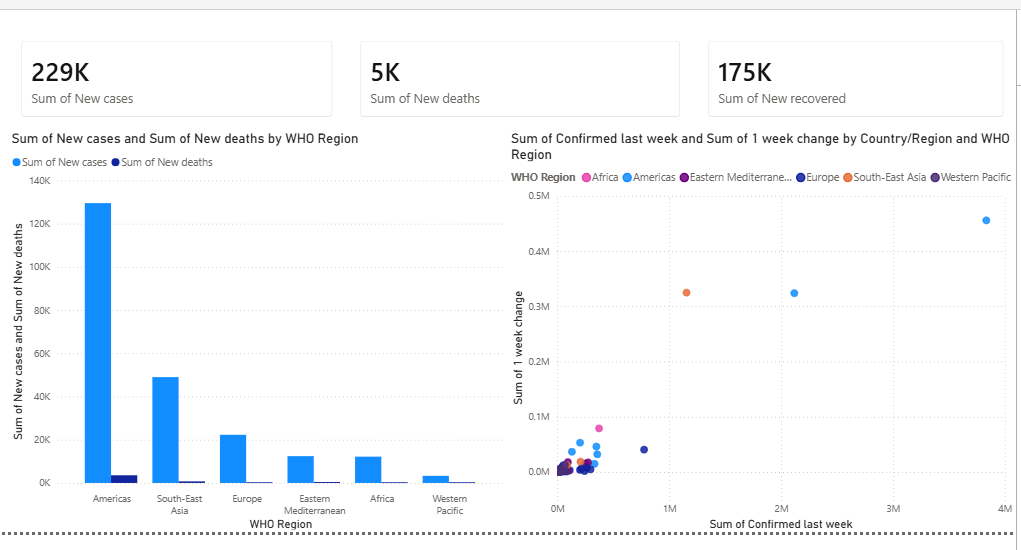

This screenshot's page, from the dashboard's own definition file:
{"tool":"powerbi","page":{"name":"Trends & Momentum","canvas":[1280,720],"ordinal":1},"visuals":[{"type":"cardVisual","fields":{"Data":["Sum(country_wise_latest.New cases)"]},"box":[9.6,82.3,426.8,130.4],"z":0},{"type":"cardVisual","fields":{"Data":["Sum(country_wise_latest.New deaths)"]},"box":[436.4,82.3,437.7,130.4],"z":1000},{"type":"cardVisual","fields":{"Data":["Sum(country_wise_latest.New recovered)"]},"box":[874.1,82.3,406.2,130.4],"z":2000},{"type":"clusteredColumnChart","fields":{"Category":["country_wise_latest.WHO Region"],"Y":["Sum(country_wise_latest.New cases)","Sum(country_wise_latest.New deaths)"]},"box":[9.6,212.7,629.8,507.7],"z":3000},{"type":"scatterChart","fields":{"Category":["country_wise_latest.Country/Region"],"X":["Sum(country_wise_latest.Confirmed last week)"],"Y":["Sum(country_wise_latest.1 week change)"],"Series":["country_wise_latest.WHO Region"]},"box":[639.5,212.7,640.8,507.7],"z":4000},{"type":"textbox","box":[0,0,1280.3,82.3],"z":4001}]}

Visuals, with their boxes on the page's 1280x720 design canvas (x1, y1, x2, y2). These are canvas units, not pixel positions in the 1021x550 screenshot, which may show the page scaled, cropped or inside an application window:
cardVisual - Sum(country_wise_latest.New cases): (10,82,436,213)
cardVisual - Sum(country_wise_latest.New deaths): (436,82,874,213)
cardVisual - Sum(country_wise_latest.New recovered): (874,82,1280,213)
clusteredColumnChart - country_wise_latest.WHO Region x Sum(country_wise_latest.New cases): (10,213,639,720)
scatterChart - country_wise_latest.Country/Region x Sum(country_wise_latest.Confirmed last week): (640,213,1280,720)
textbox: (0,0,1280,82)
